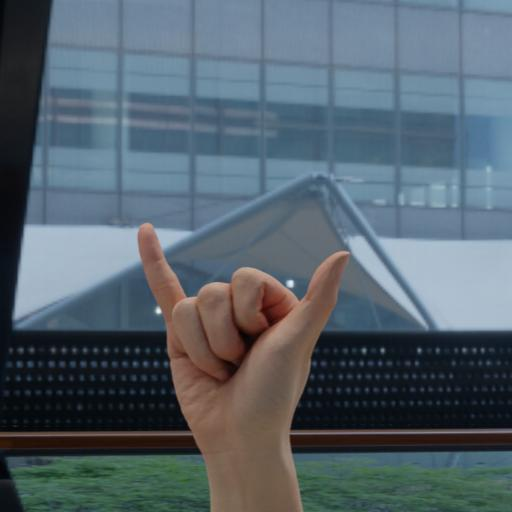Y: (122, 192, 354, 460)
